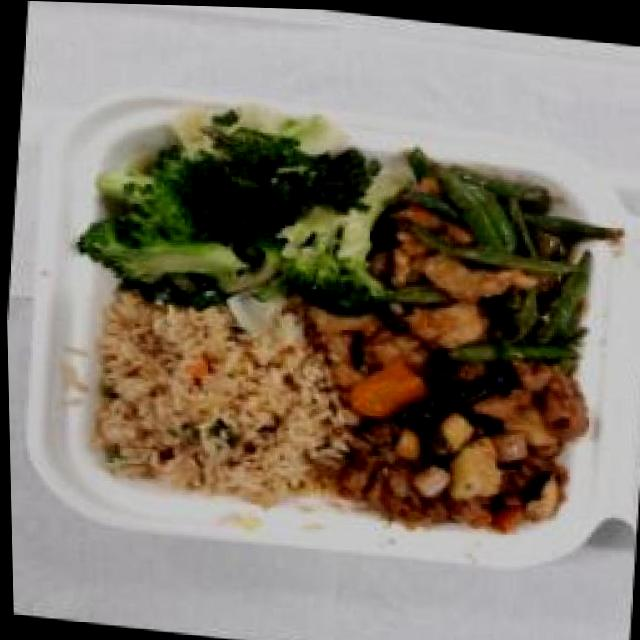Fried Rice: (70, 285, 352, 511)
Kung Pao Chicken: (319, 342, 595, 549)
String Bean Chicken Breast: (359, 151, 611, 380)
Super Greens: (74, 85, 394, 335)
